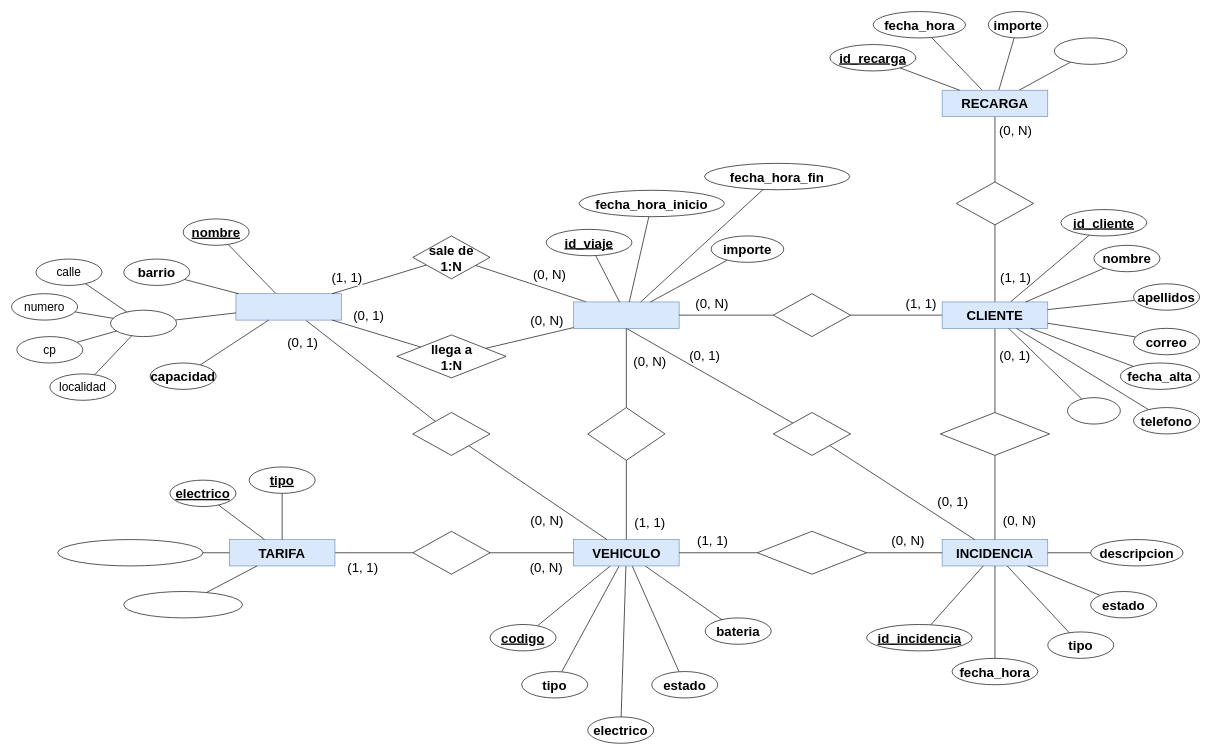
The diagram is 1211 pixels wide and 755 high, and some of its shapes have lost their labels. The centre of each missing label's shape, as x and y in pixels:
abre 1:N: point (995, 433)
afecta 1:N: point (812, 552)
aparca 1:N: point (451, 433)
direccion: point (143, 323)
ESTACION: point (288, 306)
hace 1:N: point (995, 203)
precio_desbloqueo: point (130, 552)
precio_minuto: point (183, 604)
produce 1:1: point (812, 433)
realiza 1:N: point (812, 315)
saldo: point (1093, 410)
se aplica a 1:N: point (451, 552)
se usa en 1:N: point (626, 433)
tipo_pago: point (1090, 50)
VIAJE: point (626, 314)
